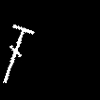double_crochet: (3, 25, 33, 82)
